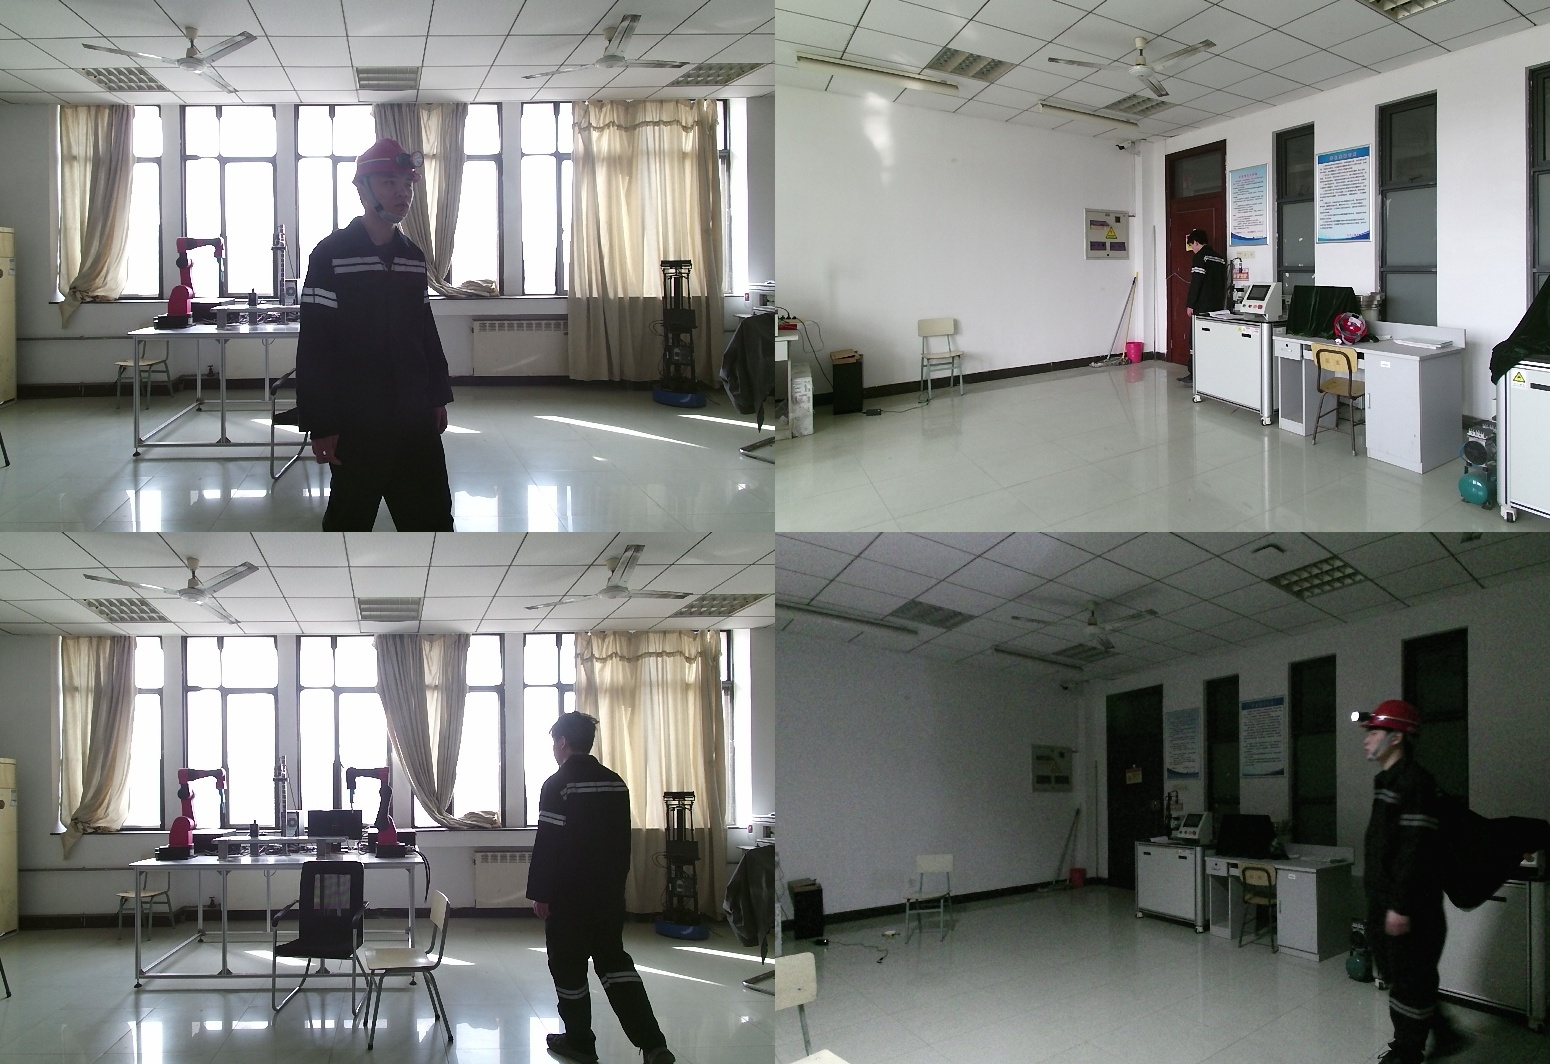person: (293, 137, 455, 532), (530, 710, 675, 1064), (1359, 697, 1470, 1061), (1184, 232, 1230, 387)
